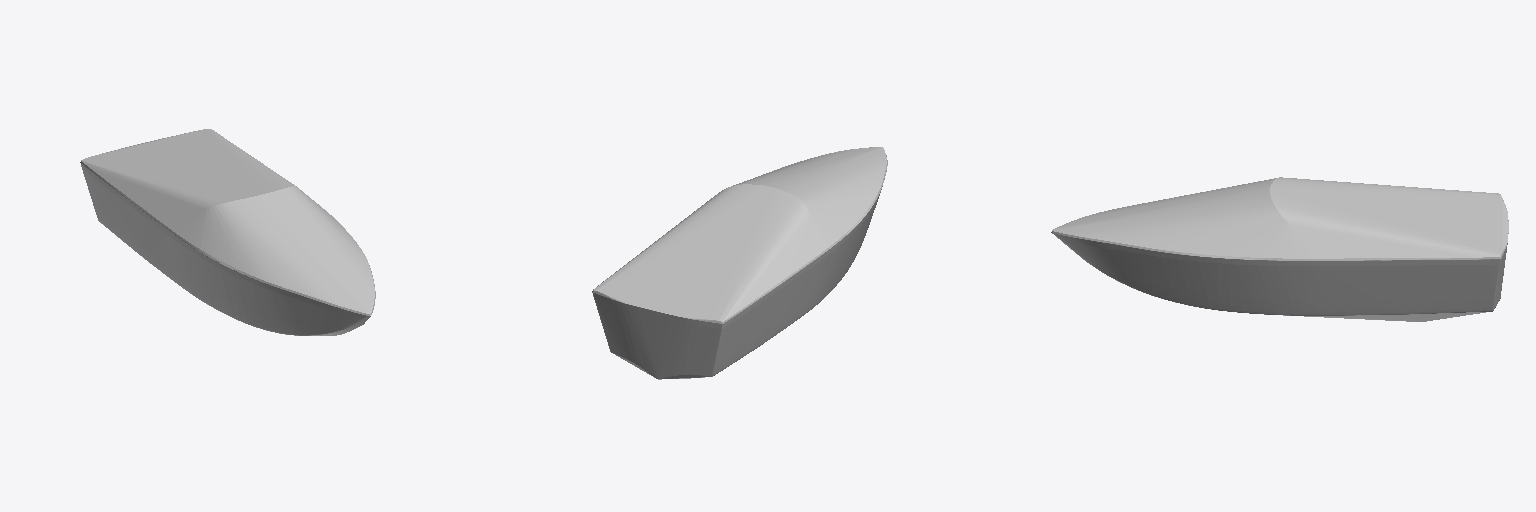
The model's file is MyCustomUsvPhysics.obj.
3 views of the same model, side by side, from view 1: azimuth 30°, elevation 25°; view 2: azimuth 150°, elevation 25°; view 3: azimuth 270°, elevation 25° (orthographic).
Visible parts, largest first — view 1: 15211_Wakeboard_v1_NEW; view 2: 15211_Wakeboard_v1_NEW; view 3: 15211_Wakeboard_v1_NEW.
Part boxes in pixels (x1,y1,x2,y2): 15211_Wakeboard_v1_NEW: (80, 129, 375, 335); 15211_Wakeboard_v1_NEW: (592, 147, 887, 379); 15211_Wakeboard_v1_NEW: (1051, 177, 1508, 321).
Size of the model in its own units: 1.78 by 1.6 by 5.12.